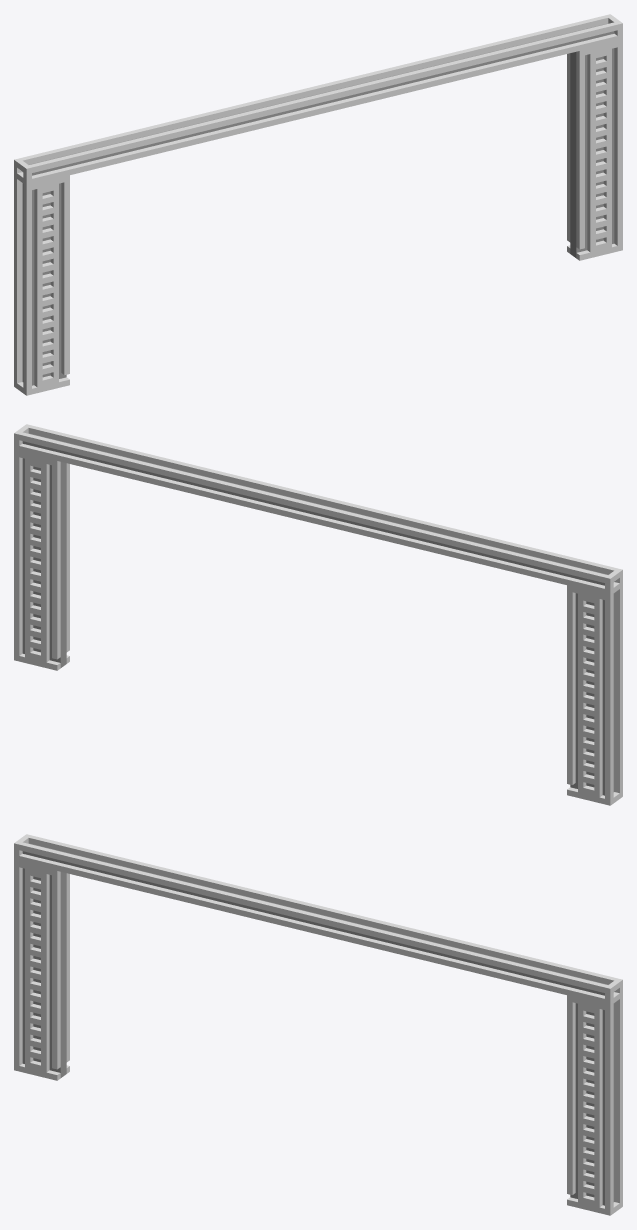
Rendered from Main Hall Extra Wide Arch.obj.
The picture shows the model from 3 angles, top to bottom: view 1: azimuth 30°, elevation 25°; view 2: azimuth 150°, elevation 25°; view 3: azimuth 330°, elevation 25°; orthographic projection.
Size of the model in its own units: 110 by 40 by 4.
1 material, 1 textured.
